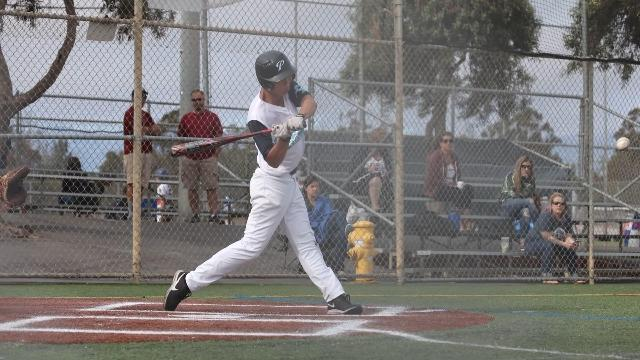baseball bat: (170, 126, 274, 158)
sports ball: (617, 138, 631, 152)
